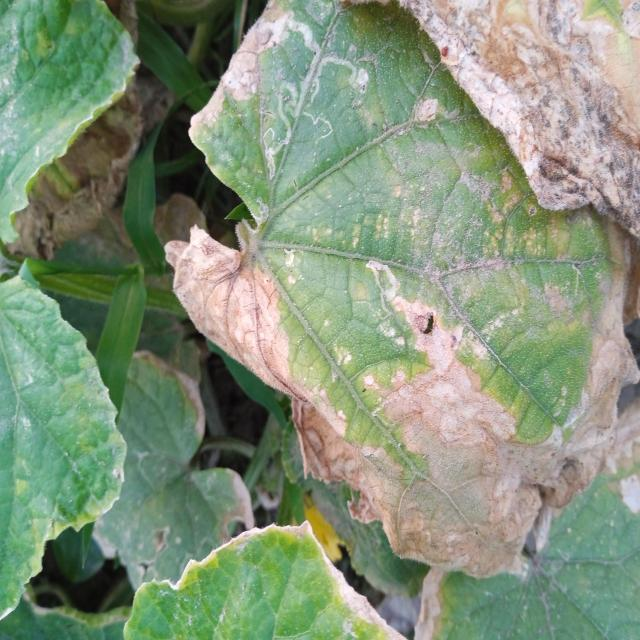cucumber_gummy: (161, 0, 640, 588), (380, 0, 639, 243), (400, 396, 640, 640), (46, 342, 276, 594), (0, 0, 147, 286), (100, 511, 422, 640)
